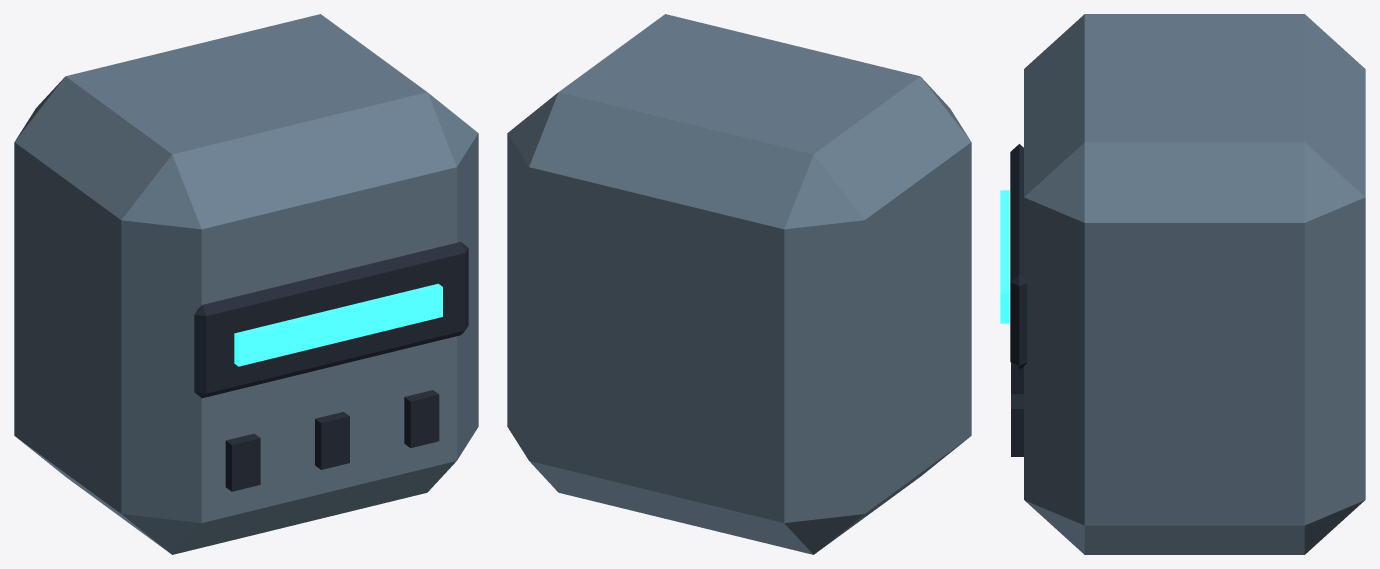
Rendered from SM_NPC_Head_003_Robot.glb.
The picture shows the model from 3 angles, left to right: view 1: azimuth 30°, elevation 25°; view 2: azimuth 150°, elevation 25°; view 3: azimuth 270°, elevation 25°; orthographic projection. The views are drawn at different scales.
Visible parts, largest first — view 1: SM_NPC_Head_003_Robot; view 2: SM_NPC_Head_003_Robot; view 3: SM_NPC_Head_003_Robot.
Boxes of the visible parts, left/top/right/bottom form: SM_NPC_Head_003_Robot: left=14, top=14, right=478, bottom=554; SM_NPC_Head_003_Robot: left=507, top=14, right=971, bottom=554; SM_NPC_Head_003_Robot: left=1000, top=14, right=1365, bottom=554.
Size of the model in its own units: 0.56 by 0.6 by 0.481.
